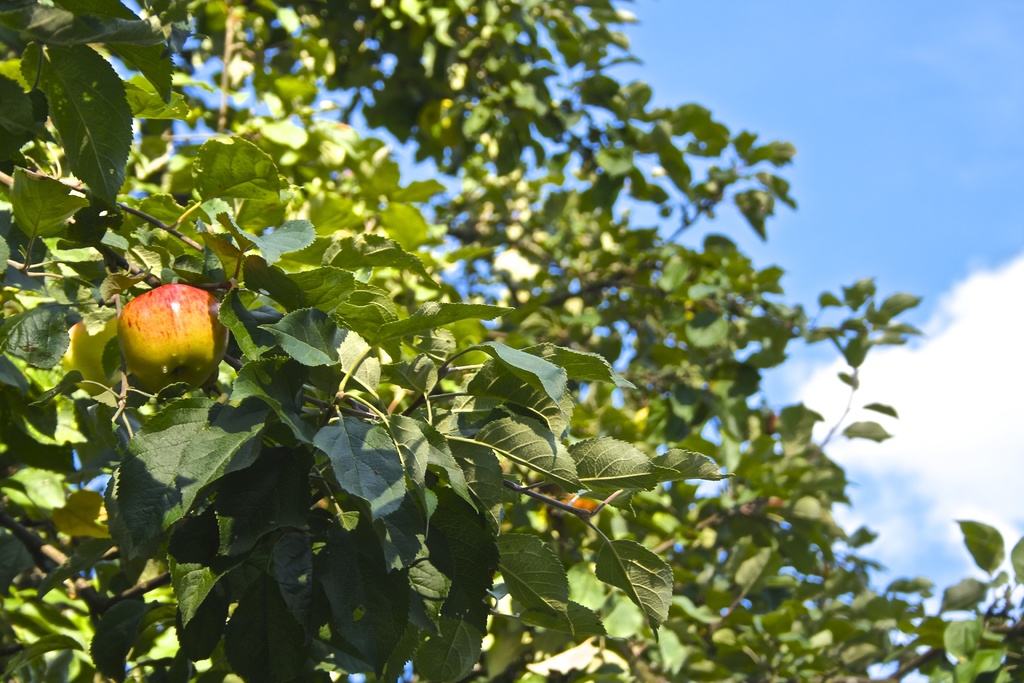Apple: (115, 284, 230, 391)
